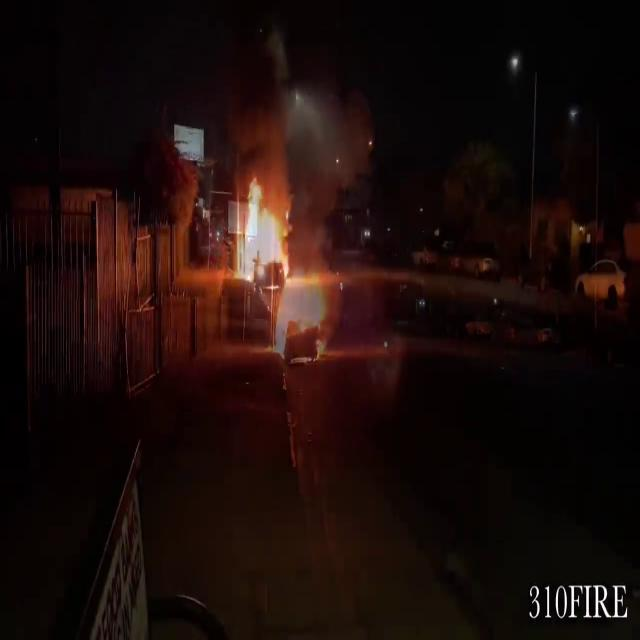Fire: (234, 176, 298, 288)
Smoke: (226, 34, 370, 184)
